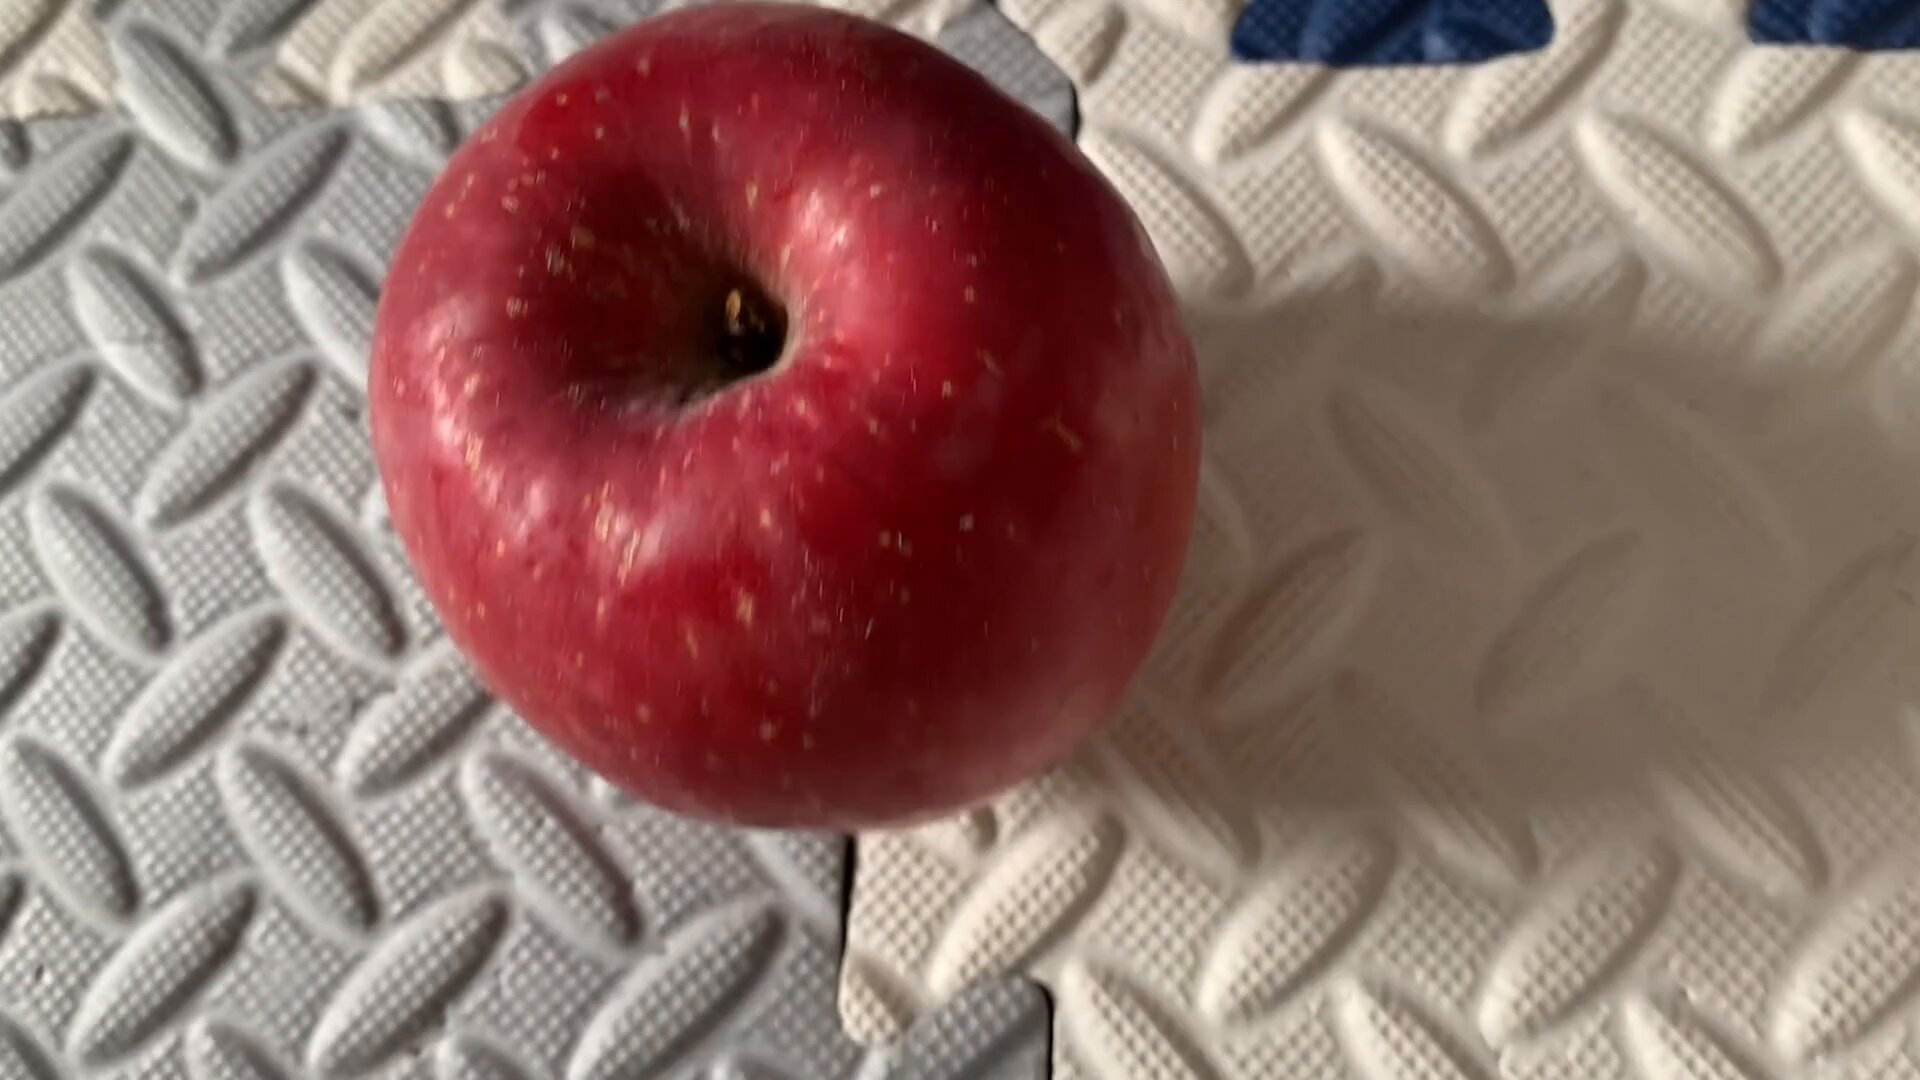不可回收水果: (353, 1, 1247, 844)
